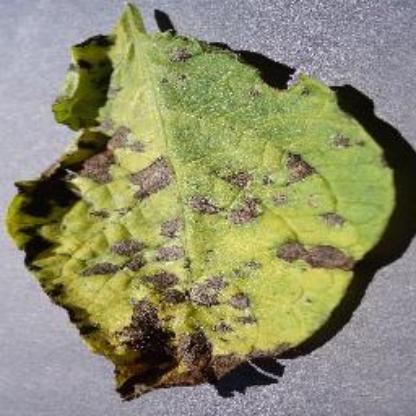Early-Blight: (7, 5, 397, 401)
